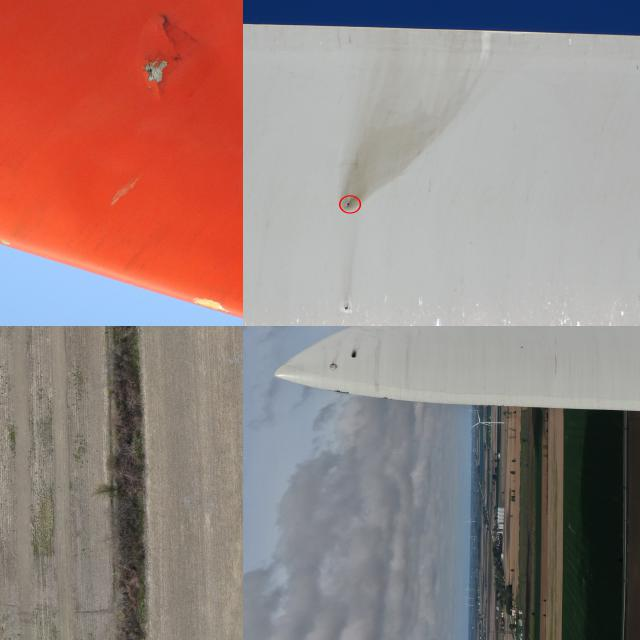damage: (114, 8, 212, 88), (182, 278, 242, 313), (326, 384, 351, 396), (376, 392, 398, 400), (347, 348, 362, 358), (344, 198, 356, 208)
